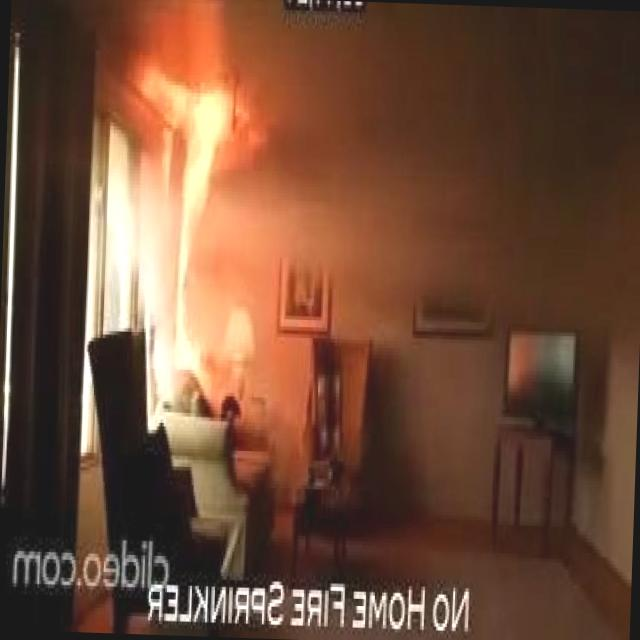fire: (121, 9, 268, 423)
